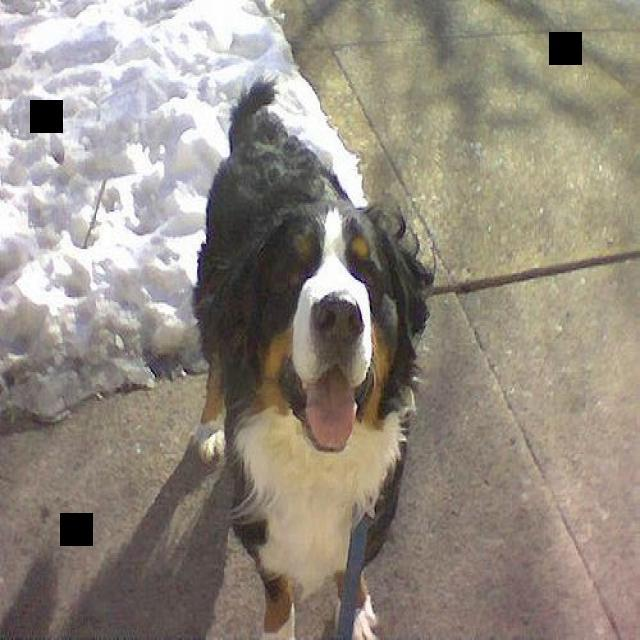adult_dog: (189, 75, 438, 640)
